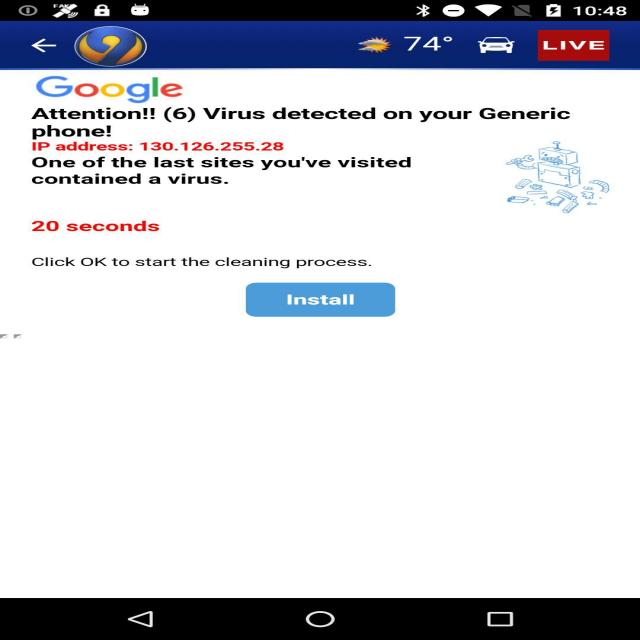button: (242, 286, 418, 324), (7, 31, 66, 61)
icon: (404, 28, 461, 58), (475, 28, 526, 61), (18, 36, 56, 56)
image: (501, 138, 609, 225), (64, 25, 163, 67), (354, 32, 402, 51)
text: (18, 215, 422, 277), (25, 133, 453, 188), (20, 104, 590, 141), (272, 282, 370, 311), (542, 33, 608, 58)
